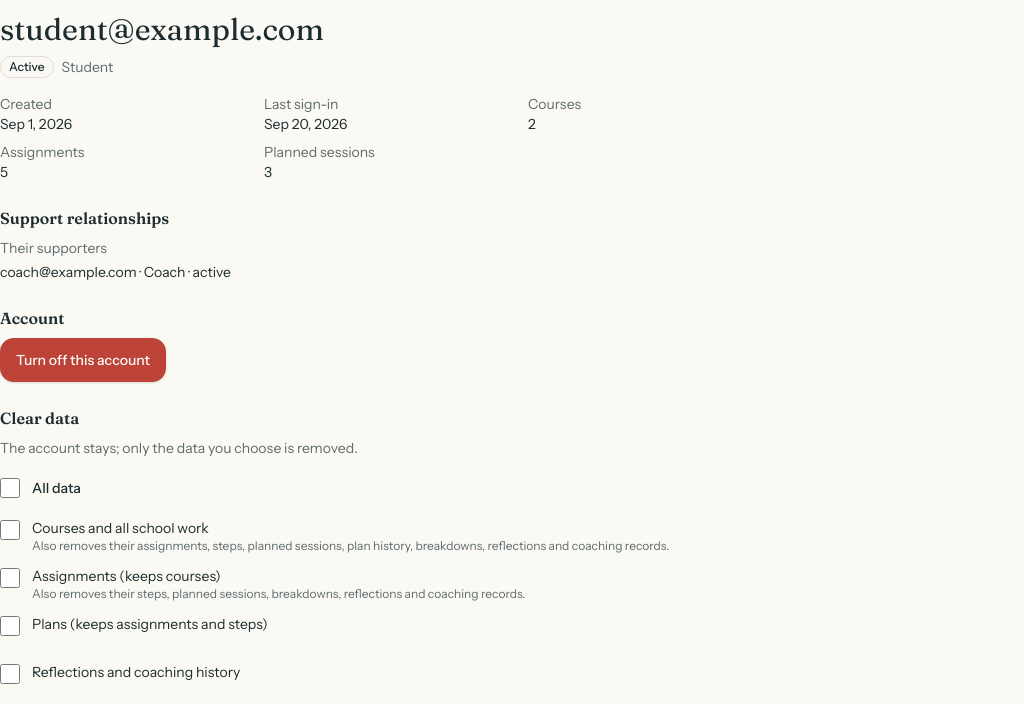
Test: AccountPage (admin-account-management-v0.1.md, requirement 2) › clearing data (requirement 3, A5, A7) › all data: needs the email typed; 'Also turn off' clears and turns off in one step
The image size is (1024, 704).
Click the checkbox labelled "All data" at (10, 488), box x1=0 y1=478 x2=20 y2=498
(page scrolled)
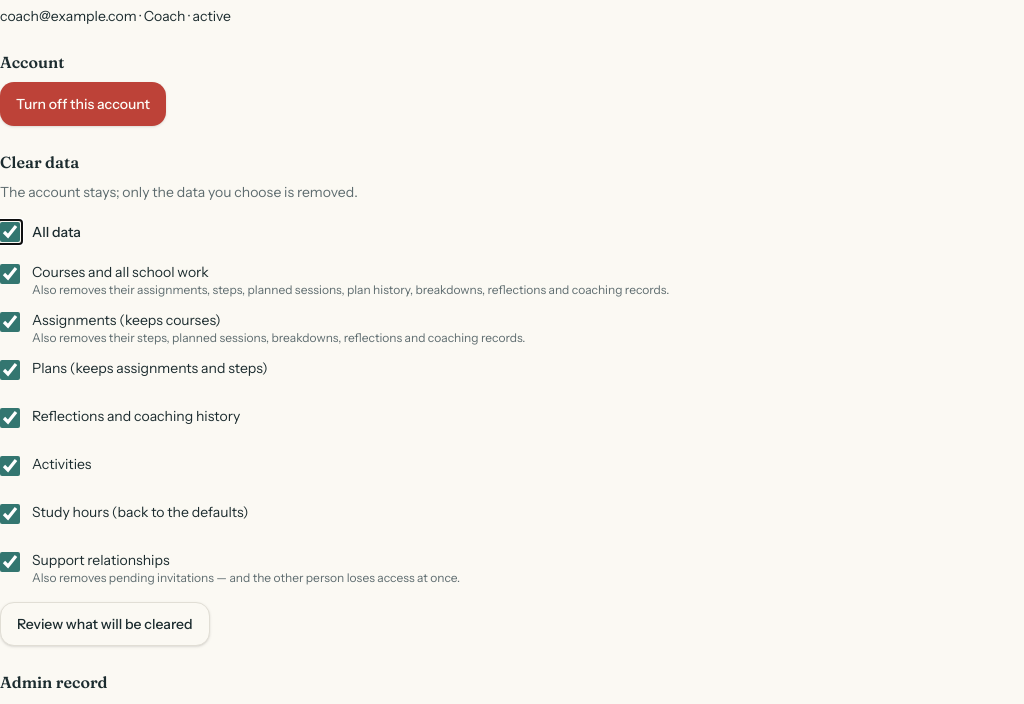
expect the checkbox labelled "Activities" is checked: met, box x1=0 y1=456 x2=20 y2=476
Click the button "Review what will be cleared" at (105, 624), box x1=0 y1=602 x2=210 y2=646
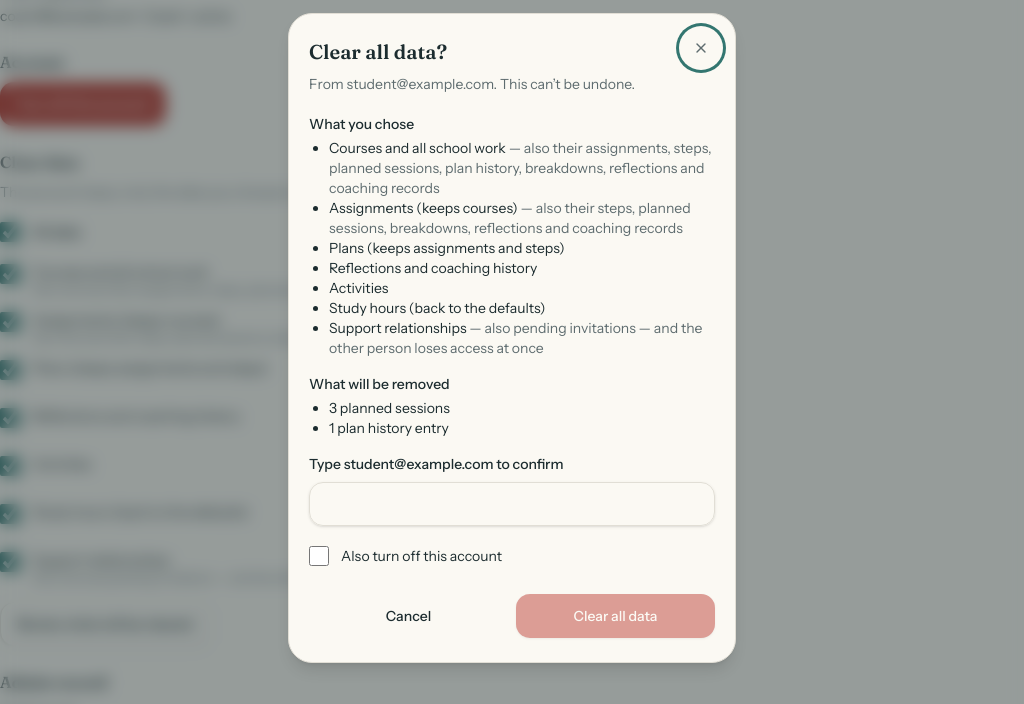
expect the list item "3 planned sessions" is shown: met, box x1=329 y1=399 x2=450 y2=417
expect the button "Clear all data" is disabled: met, box x1=516 y1=594 x2=715 y2=638
Type "Student@Example.com" into the field labelled "Type student@example.com to confirm" at (512, 504), box x1=309 y1=482 x2=715 y2=526
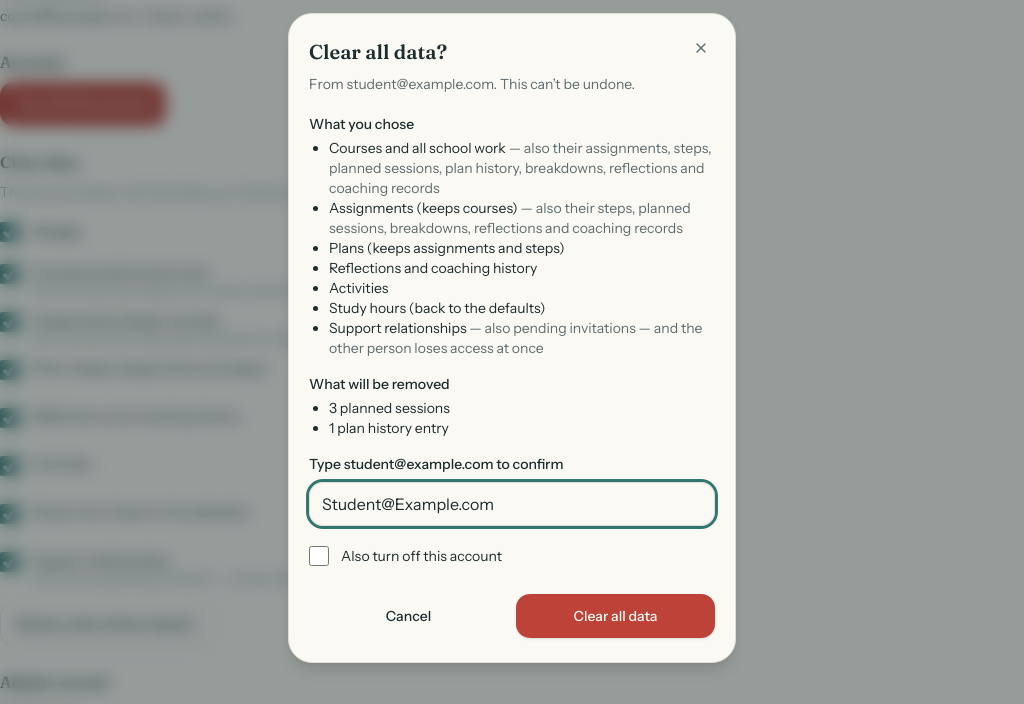
expect the checkbox labelled "Also turn off this account" is not checked: met
expect the button "Clear all data" is enabled: met, box x1=516 y1=594 x2=715 y2=638
Click the checkbox labelled "Also turn off this account" at (319, 556), box x1=309 y1=546 x2=329 y2=566
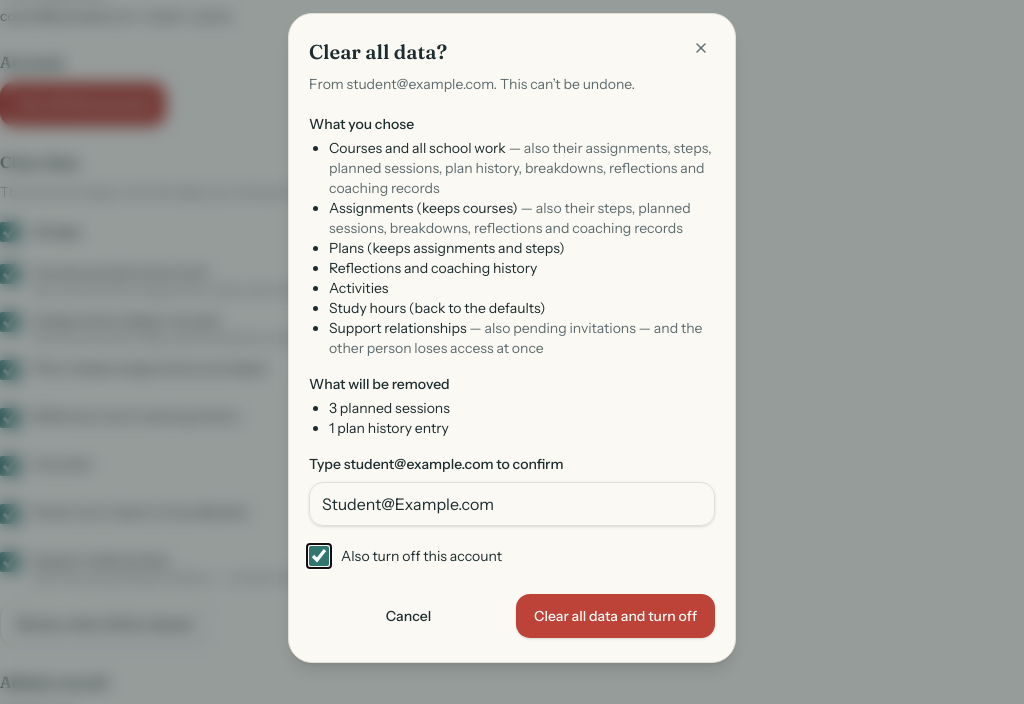
Click the button "Clear all data and turn off" at (616, 616), box x1=516 y1=594 x2=715 y2=638
(page scrolled)
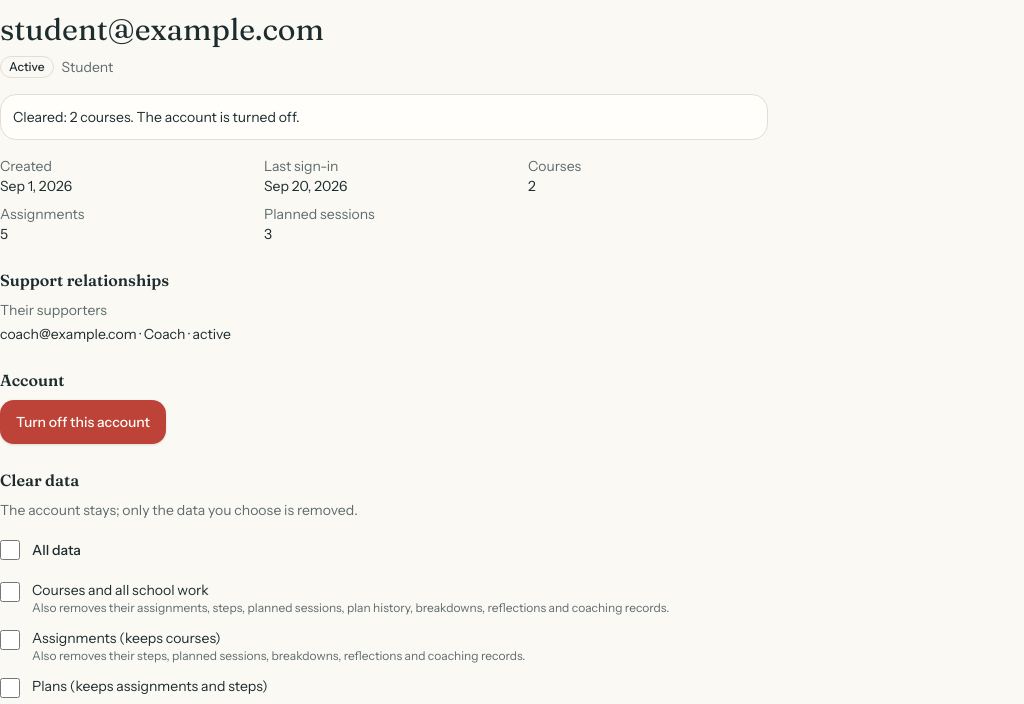
expect the text "Cleared: 2 courses. The account is turned off." is shown: met, box x1=0 y1=94 x2=768 y2=140
